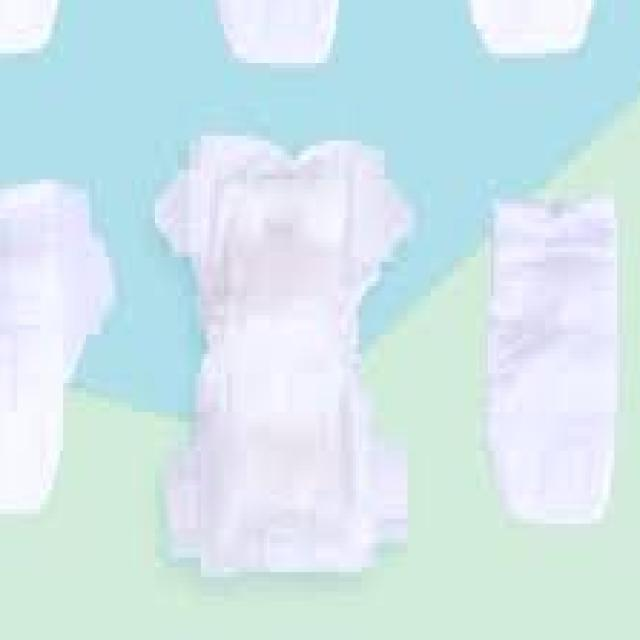organic: (13, 8, 613, 616)
